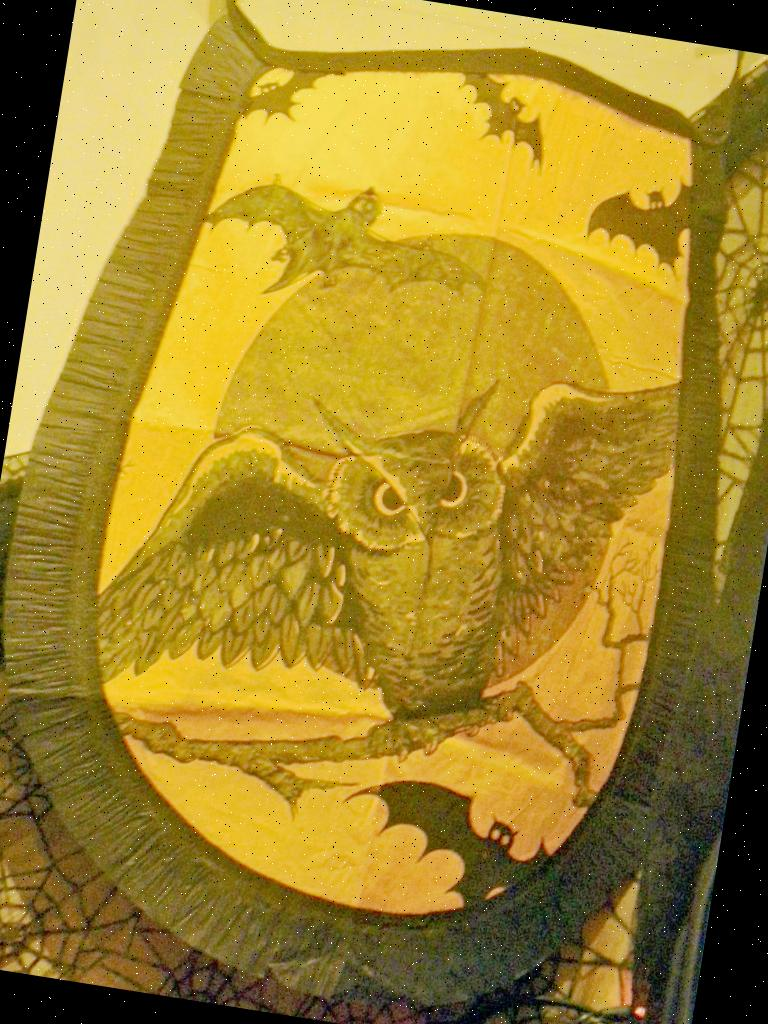Owl: (81, 296, 696, 796)
